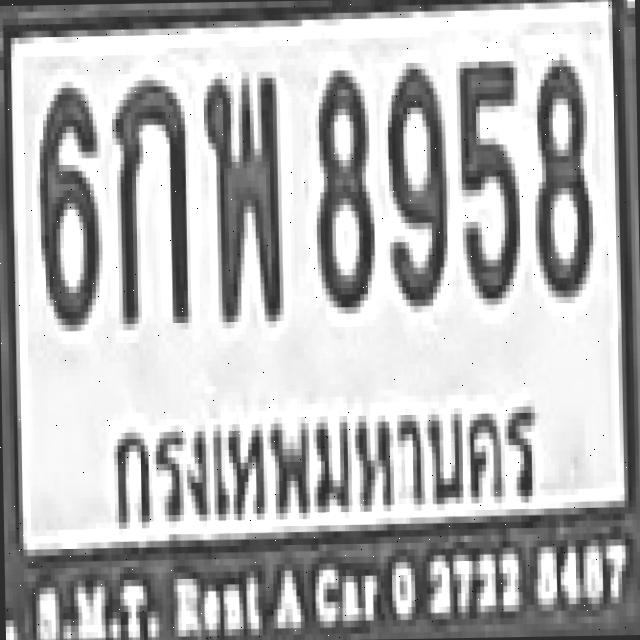10GorGai: (111, 76, 188, 320)
39PhorPan: (198, 65, 280, 316)
5: (455, 54, 517, 298)
6: (34, 81, 96, 325)
8: (309, 63, 372, 307), (528, 53, 590, 291)
9: (382, 58, 444, 296)
Bangkok: (95, 386, 547, 556)
